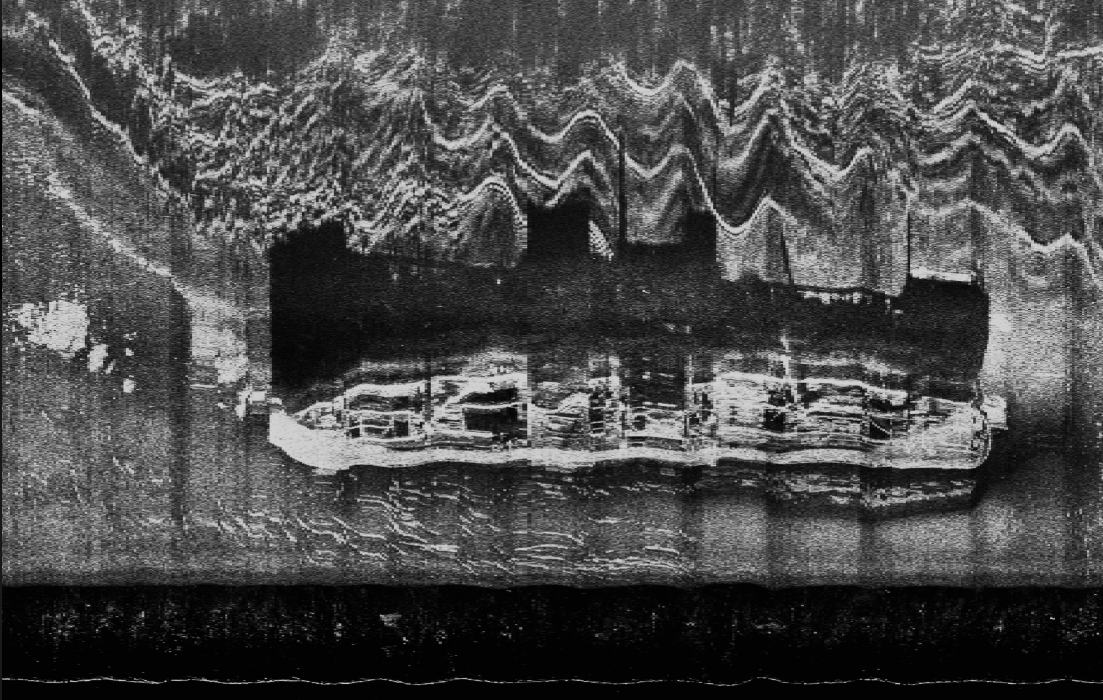ship: (267, 335, 992, 506)
